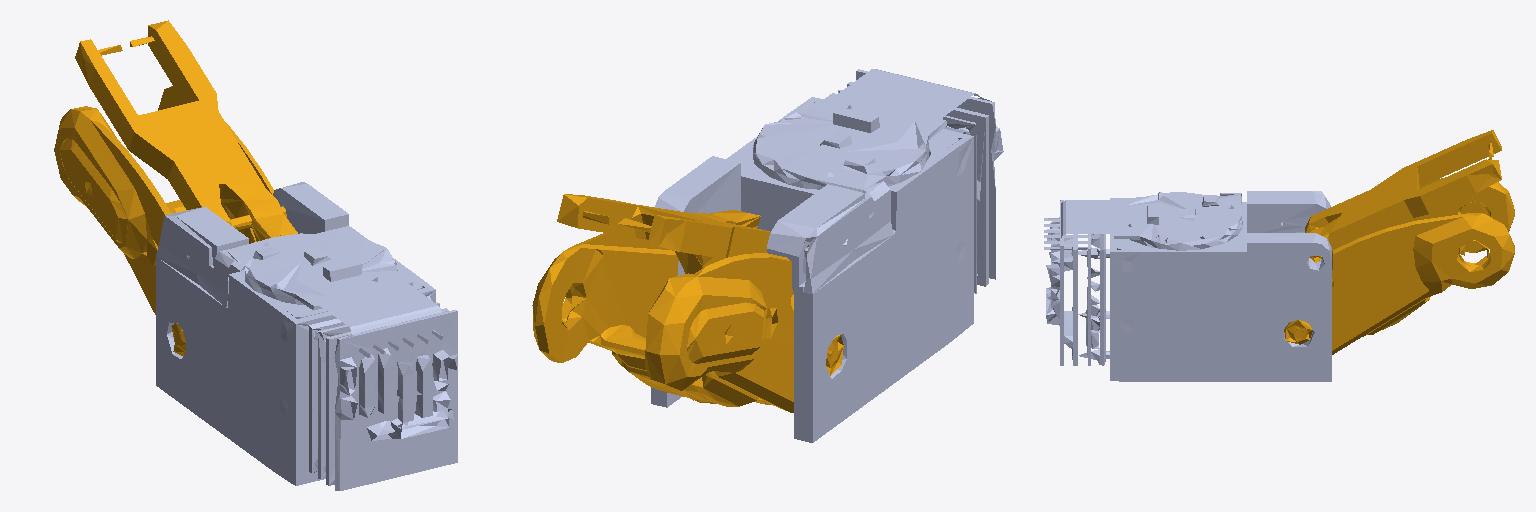
URDF robot description (GLF2proximal):
<robot name="GLF2proximal">
  <link name="GLF2Base_Link">
    <inertial>
      <origin xyz="-0.013075 -0.015412 0.022007" rpy="0.0 0.0 0.0"/>
      <mass value="0.19184"/>
      <inertia ixx="3.9359e-05" ixy="-1.1994e-07" ixz="-1.876e-07" iyy="3.2122e-05" iyz="-2.0609e-07" izz="4.6536e-05"/>
    </inertial>
    <visual name="GLF2Base_Visual">
      <origin xyz="0.0 0.0 0.0" rpy="0.0 0.0 0.0"/>
      <geometry>
        <mesh filename="../meshes/lfs-stl/Finger_Base_Frame.stl"/>
      </geometry>
      <material name="">
        <color rgba="0.79216 0.81961 0.93333 1.0"/>
      </material>
    </visual>
    <collision name="GLF2Base_Collision">
      <origin xyz="0.0 0.0 0.0" rpy="0.0 0.0 0.0"/>
      <geometry>
        <mesh filename="../meshes/lfs-stl/Finger_Base_Frame_convexhull.stl" scale="1.0 1.0 1.0"/>
      </geometry>
    </collision>
  </link>
  <joint name="GLF2ProximalBar" type="revolute">
    <origin xyz="-0.01305 0.020512 0.035979" rpy="-1.1138 0.0 0.0"/>
    <axis xyz="-1.0 0.0 0.0"/>
    <parent link="GLF2Base_Link"/>
    <child link="GLF2ProximalBar_Link"/>
    <limit effort="400.0" lower="-3.1415926" upper="3.1415926" velocity="3.1415926"/>
    <mimic joint="GLF2ProximalSegment" multiplier="-1.0" offset="0.0"/>
  </joint>
  <link name="GLF2ProximalBar_Link">
    <inertial>
      <origin xyz="0.0021195 9.8516e-05 0.017626" rpy="0.0 0.0 0.0"/>
      <mass value="0.013406"/>
      <inertia ixx="1.3148561531334552e-05" ixy="-2.4433999999999384e-08" ixz="2.606700000000039e-07" iyy="1.3680961531334562e-05" iyz="7.3035999999996e-08" izz="1.0023111531334548e-05"/>
    </inertial>
    <visual name="GLF2ProximalBar_Visual">
      <origin xyz="0.0 0.0 0.0" rpy="0.0 0.0 0.0"/>
      <geometry>
        <mesh filename="../meshes/lfs-stl/F_ProximalBar_Frame.stl"/>
      </geometry>
      <material name="">
        <color rgba="0.94118 0.67451 0.11765 1.0"/>
      </material>
    </visual>
    <collision name="GLF2ProximalBar_Collision">
      <origin xyz="0.0 0.0 0.0" rpy="0.0 0.0 0.0"/>
      <geometry>
        <mesh filename="../meshes/lfs-stl/F_ProximalBar_Frame_convexhull.stl" scale="1.0 1.0 1.0"/>
      </geometry>
    </collision>
  </link>
  <joint name="GLF2ProximalSegment" type="revolute">
    <origin xyz="-0.01305 0.01575 0.0145" rpy="-1.1257 0.0 0.0"/>
    <axis xyz="1.0 0.0 0.0"/>
    <parent link="GLF2Base_Link"/>
    <child link="GLF2ProximalSegment_Link"/>
    <limit effort="400.0" lower="-0.62" upper="0.75" velocity="3.1415926"/>
  </joint>
  <link name="GLF2ProximalSegment_Link">
    <inertial>
      <origin xyz="-0.0020803 0.000387 0.0216" rpy="0.0 0.0 0.0"/>
      <mass value="0.054293"/>
      <inertia ixx="2.0885480277942027e-05" ixy="-1.4302000000000018e-08" ixz="-2.6832000000000287e-07" iyy="2.3749480277942032e-05" iyz="6.182299999999969e-07" izz="1.0034380277942036e-05"/>
    </inertial>
    <visual name="GLF2ProximalSegment_Visual">
      <origin xyz="0.0 0.0 0.0" rpy="0.0 0.0 0.0"/>
      <geometry>
        <mesh filename="../meshes/lfs-stl/F_ProximalSegment_Frame.stl"/>
      </geometry>
      <material name="">
        <color rgba="0.94118 0.67451 0.11765 1.0"/>
      </material>
    </visual>
    <collision name="GLF2ProximalSegment_Collision">
      <origin xyz="0.0 0.0 0.0" rpy="0.0 0.0 0.0"/>
      <geometry>
        <mesh filename="../meshes/lfs-stl/F_ProximalSegment_Frame_convexhull.stl" scale="1.0 1.0 1.0"/>
      </geometry>
    </collision>
  </link>
</robot>

--- Render facts (derived) ---
3 views of the same robot in one strip: view 1: azimuth 30°, elevation 25°; view 2: azimuth 150°, elevation 25°; view 3: azimuth 270°, elevation 25° (orthographic).
Robot: GLF2proximal — 3 links, 2 joints (2 revolute); root link GLF2Base_Link; default pose: all joints at 0.
Visible links, largest first — view 1: GLF2Base_Link, GLF2ProximalBar_Link, GLF2ProximalSegment_Link; view 2: GLF2Base_Link, GLF2ProximalSegment_Link, GLF2ProximalBar_Link; view 3: GLF2Base_Link, GLF2ProximalSegment_Link, GLF2ProximalBar_Link.
Link boxes in pixels (box(x1,y1,x2,y2)): GLF2Base_Link: box(156, 182, 457, 490); GLF2ProximalBar_Link: box(75, 20, 297, 243); GLF2ProximalSegment_Link: box(54, 86, 273, 356); GLF2Base_Link: box(651, 69, 1003, 442); GLF2ProximalSegment_Link: box(532, 233, 843, 412); GLF2ProximalBar_Link: box(557, 194, 807, 273); GLF2Base_Link: box(1044, 191, 1331, 381); GLF2ProximalSegment_Link: box(1284, 178, 1514, 354); GLF2ProximalBar_Link: box(1305, 130, 1501, 275).
Bounding box of the posed robot: 0.035 × 0.1283 × 0.0628 m (x, y, z).
Meshes: 3 distinct files referenced, 3 mesh visuals loaded (3 binary STL).